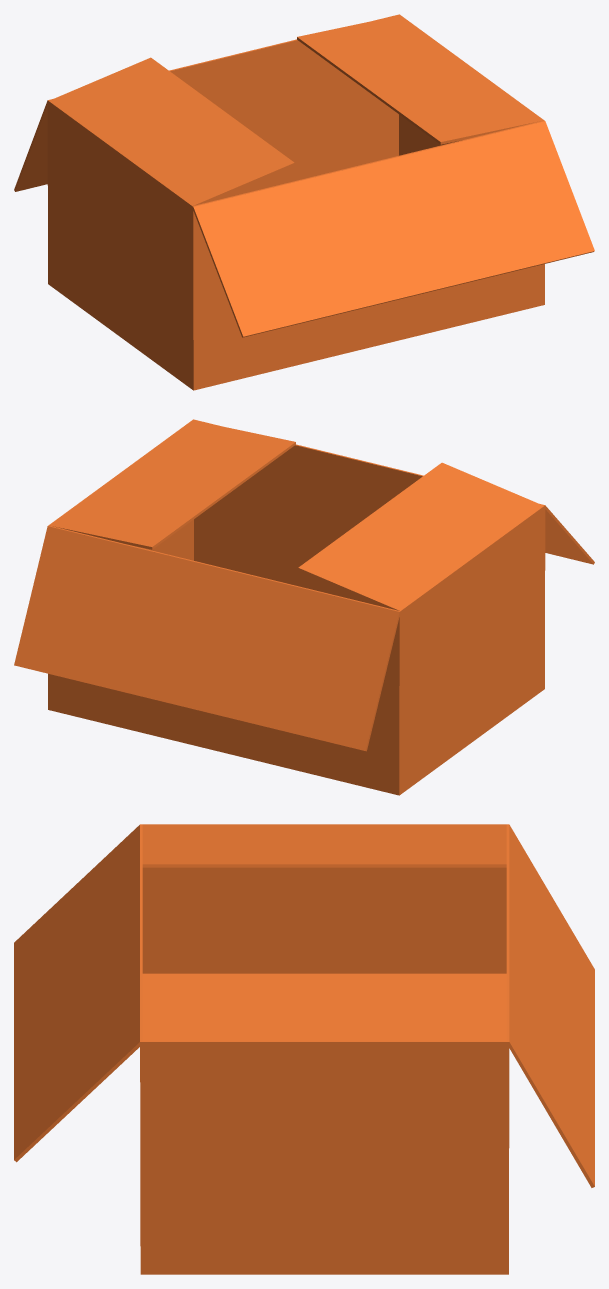
File: semi open box.obj
3 renders of one model, top to bottom at view 1: azimuth 30°, elevation 25°; view 2: azimuth 150°, elevation 25°; view 3: azimuth 270°, elevation 25°, orthographic. The views are drawn at different scales.
Parts seen in each view (by area): view 1: Plane.003; view 2: Plane.003; view 3: Plane.003.
Part boxes in pixels (x1=…): Plane.003: x1=14, y1=14, x2=594, y2=390; Plane.003: x1=14, y1=419, x2=594, y2=795; Plane.003: x1=14, y1=824, x2=594, y2=1274.
Size of the model in its own units: 0.3296 by 0.1811 by 0.372.
